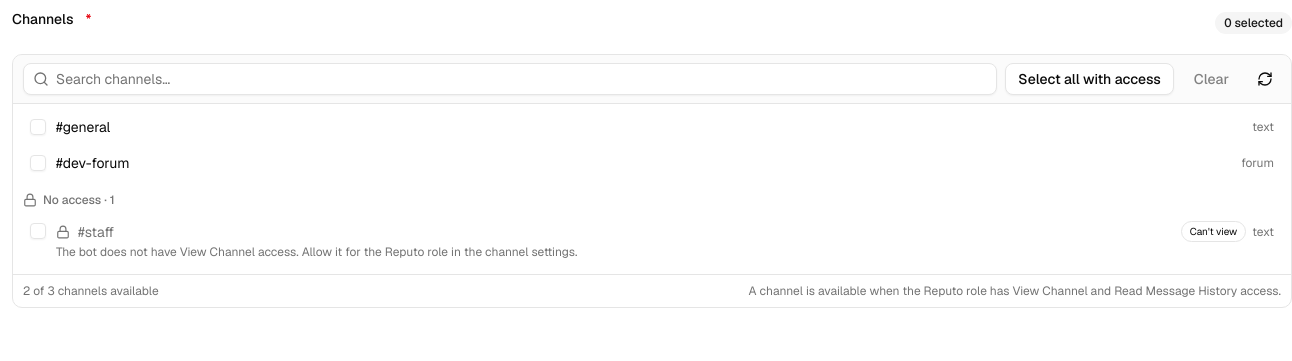
Test: CommunityResourcesField › selects every readable channel at once and clears the selection
Click the button "Select all with access".
click(1090, 79)  # box [1005, 63, 1174, 95]
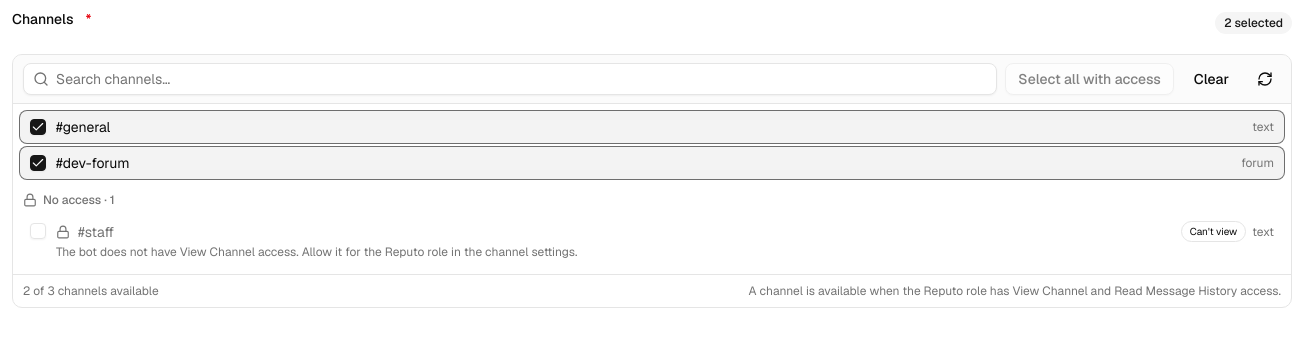
Check: the text "2 selected" is shown, box [1215, 12, 1291, 34]
Check: the checkbox named "#general" is checked, box [30, 119, 46, 135]
Check: the checkbox named "#dev-forum" is checked, box [30, 155, 46, 171]
Click the button "Clear".
click(1211, 79)  # box [1182, 63, 1241, 95]
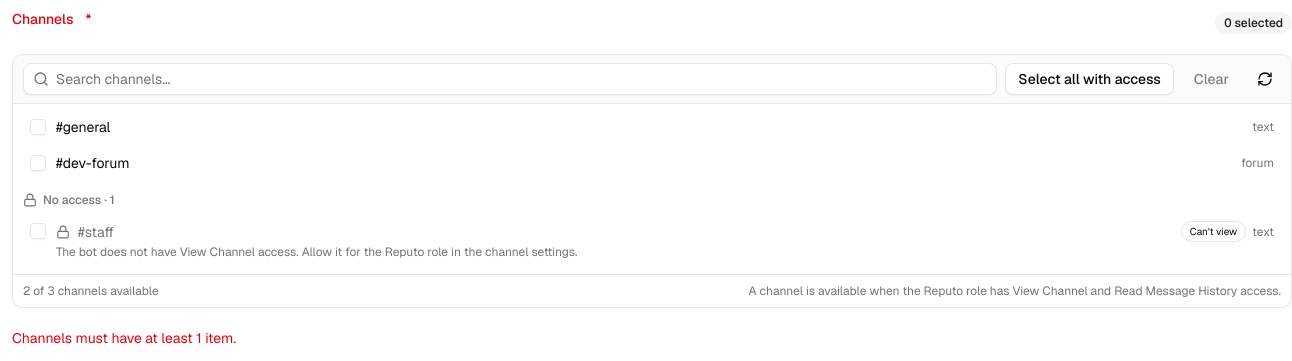
Check: the text "0 selected" is shown, box [1215, 12, 1291, 34]
